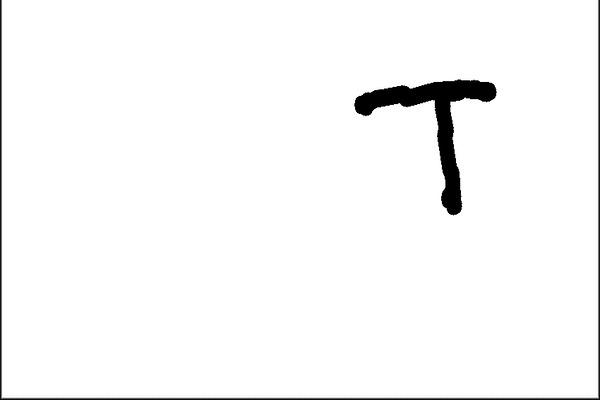T: (353, 70, 502, 216)
